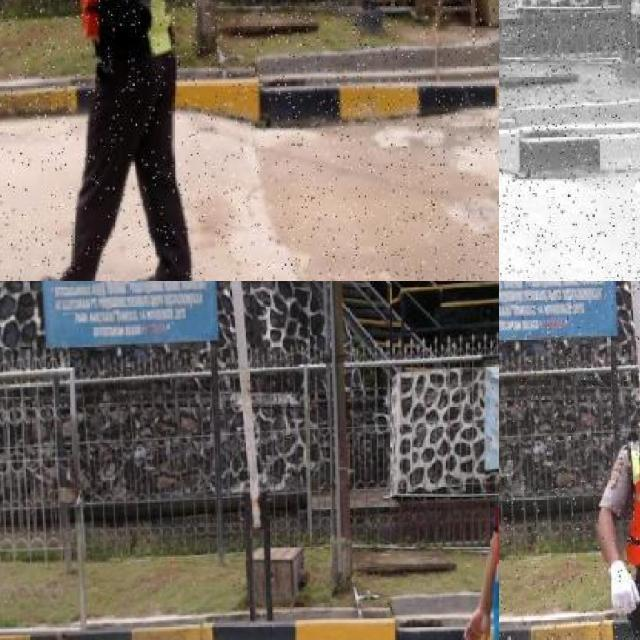apron: (606, 558, 640, 618)
